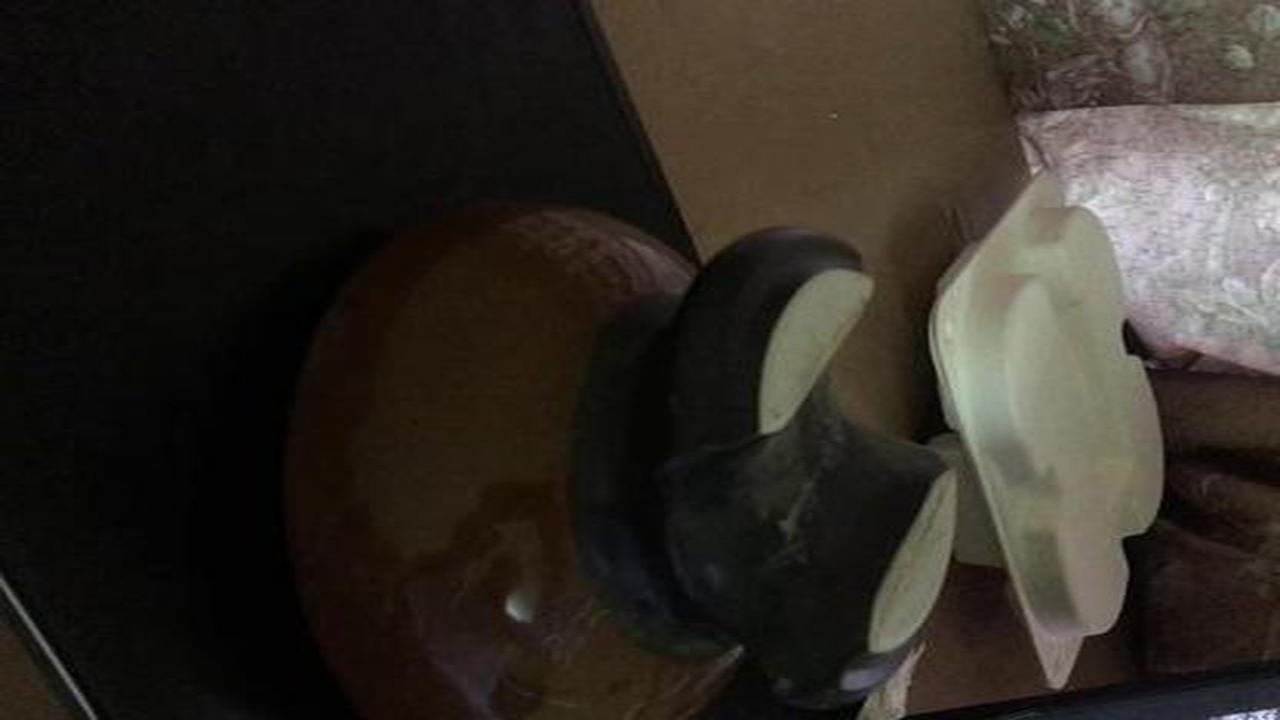insulator_pin: (255, 182, 982, 712)
